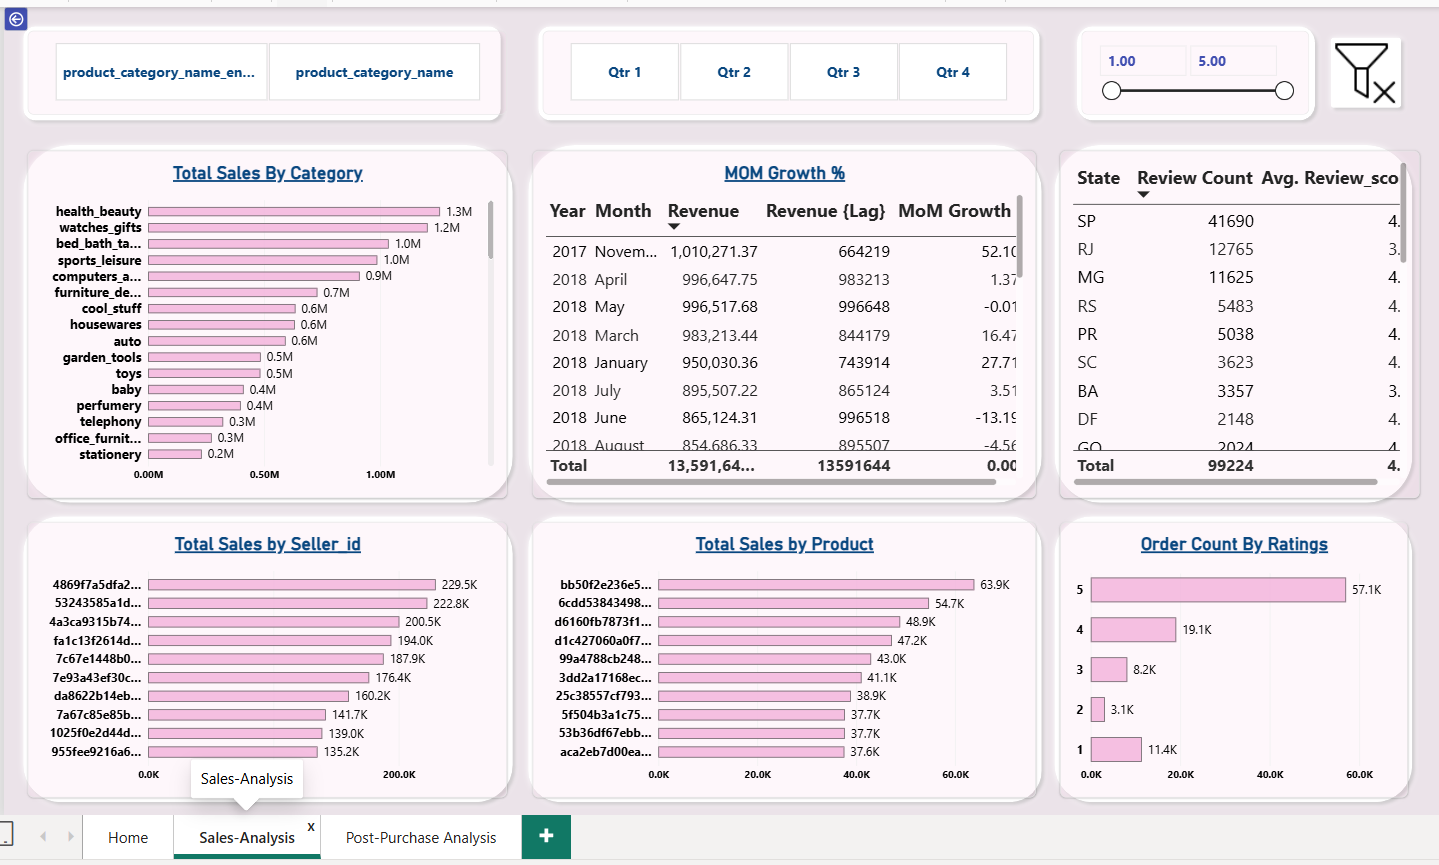

Layout of this report page (visuals, bound fields, positions):
{"tool":"powerbi","page":{"name":"Sales-Analysis","canvas":[1920,1080],"ordinal":1},"visuals":[{"type":"shape","box":[691,176,704,496],"z":0},{"type":"shape","box":[16,16,656,144],"z":1000},{"type":"shape","box":[16,176,672,496],"z":2000},{"type":"barChart","title":"Total Sales By Category","fields":{"Category":["categories.product_category_name_english","categories.product_category_name"],"Y":["Sum(order_items.price)"]},"box":[32,192,640,464],"z":3000},{"type":"shape","box":[16,672,672,400],"z":4000},{"type":"slicer","fields":{"Values":["Category Name(BOTH).Category Name(BOTH)"]},"box":[32,32,640,112],"z":5000},{"type":"shape","box":[691,672,704,400],"z":6000},{"type":"tableEx","title":"MOM Growth %","fields":{"Values":["calendar table.YYYY-MM.Variation.Date Hierarchy.Year","calendar table.YYYY-MM.Variation.Date Hierarchy.Month","order_items.Total Sales","order_items.Total Sales{Lag by Month}","order_items.Difference b/w Months"]},"box":[707,192,672,464],"z":7000},{"type":"actionButton","box":[0,0,32,32],"z":8000},{"type":"barChart","title":"Total Sales by Seller_id","fields":{"Category":["sellers.seller_id"],"Y":["order_items.Total Sales"]},"box":[32,688,640,368],"z":9000},{"type":"shape","box":[1395,672,496,400],"z":10000},{"type":"shape","box":[704,16,688,144],"z":11000},{"type":"shape","box":[1395,176,496,496],"z":12000},{"type":"slicer","fields":{"Values":["calendar table.Date.Variation.Date Hierarchy.Quarter"]},"box":[720,32,656,112],"z":13000},{"type":"barChart","title":"Total Sales by Product","fields":{"Y":["order_items.Total Sales"],"Category":["products.product_id"]},"box":[707,688,672,368],"z":14000},{"type":"barChart","title":"Order Count By Ratings","fields":{"Category":["reviews.review_score"],"Y":["Count(reviews.order_id)"]},"box":[1411,688,464,368],"z":15000},{"type":"tableEx","fields":{"Values":["customers.customer_state","CountNonNull(reviews.review_score)","Avg(reviews.review_score)"]},"box":[1411,192,480,464],"z":16000},{"type":"shape","box":[1424,16,336,144],"z":17000},{"type":"slicer","fields":{"Values":["reviews.review_score"]},"box":[1440,32,304,112],"z":18000},{"type":"actionButton","box":[1763,32,112,112],"z":19000},{"type":"image","box":[1779,48,80,80],"z":20000}]}

Visuals, with their boxes on the page's 1920x1080 design canvas (x1, y1, x2, y2). These are canvas units, not pixel positions in the 1439x865 screenshot, which may show the page scaled, cropped or inside an application window:
shape: <region>691, 176, 1395, 672</region>
shape: <region>16, 16, 672, 160</region>
shape: <region>16, 176, 688, 672</region>
"Total Sales By Category" barChart: <region>32, 192, 672, 656</region>
shape: <region>16, 672, 688, 1072</region>
slicer - Category Name(BOTH).Category Name(BOTH): <region>32, 32, 672, 144</region>
shape: <region>691, 672, 1395, 1072</region>
"MOM Growth %" tableEx: <region>707, 192, 1379, 656</region>
actionButton: <region>0, 0, 32, 32</region>
"Total Sales by Seller_id" barChart: <region>32, 688, 672, 1056</region>
shape: <region>1395, 672, 1891, 1072</region>
shape: <region>704, 16, 1392, 160</region>
shape: <region>1395, 176, 1891, 672</region>
slicer - calendar table.Date.Variation.Date Hierarchy.Quarter: <region>720, 32, 1376, 144</region>
"Total Sales by Product" barChart: <region>707, 688, 1379, 1056</region>
"Order Count By Ratings" barChart: <region>1411, 688, 1875, 1056</region>
tableEx - customers.customer_state x CountNonNull(reviews.review_score): <region>1411, 192, 1891, 656</region>
shape: <region>1424, 16, 1760, 160</region>
slicer - reviews.review_score: <region>1440, 32, 1744, 144</region>
actionButton: <region>1763, 32, 1875, 144</region>
image: <region>1779, 48, 1859, 128</region>
